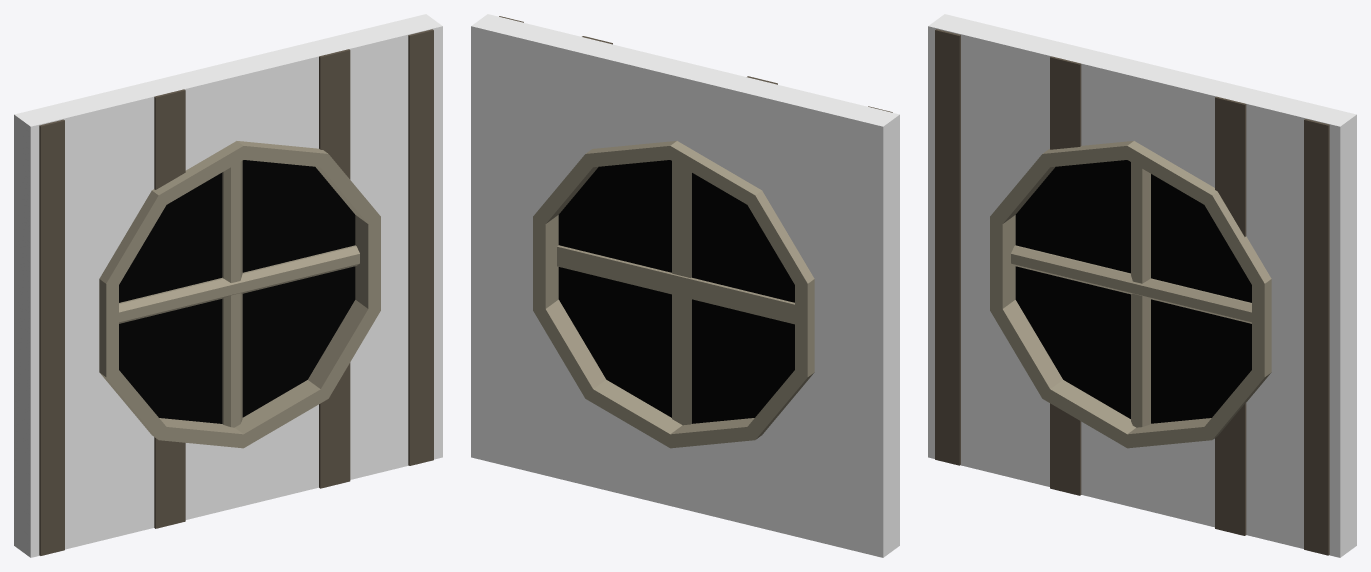
The model's file is _ROOF_Window_round_1.glb.
3 views of the same model, side by side, from view 1: azimuth 30°, elevation 25°; view 2: azimuth 150°, elevation 25°; view 3: azimuth 330°, elevation 25° (orthographic).
Parts seen in each view (by area): view 1: ROOF_Window_round_1; view 2: ROOF_Window_round_1; view 3: ROOF_Window_round_1.
Part boxes in pixels (<box>): ROOF_Window_round_1: <box>14,14,442,557</box>; ROOF_Window_round_1: <box>471,14,899,557</box>; ROOF_Window_round_1: <box>928,14,1356,557</box>.
Bounding box in the file's own units: 1 × 1 × 0.1275.
Materials: 1 (1 with a texture image).
